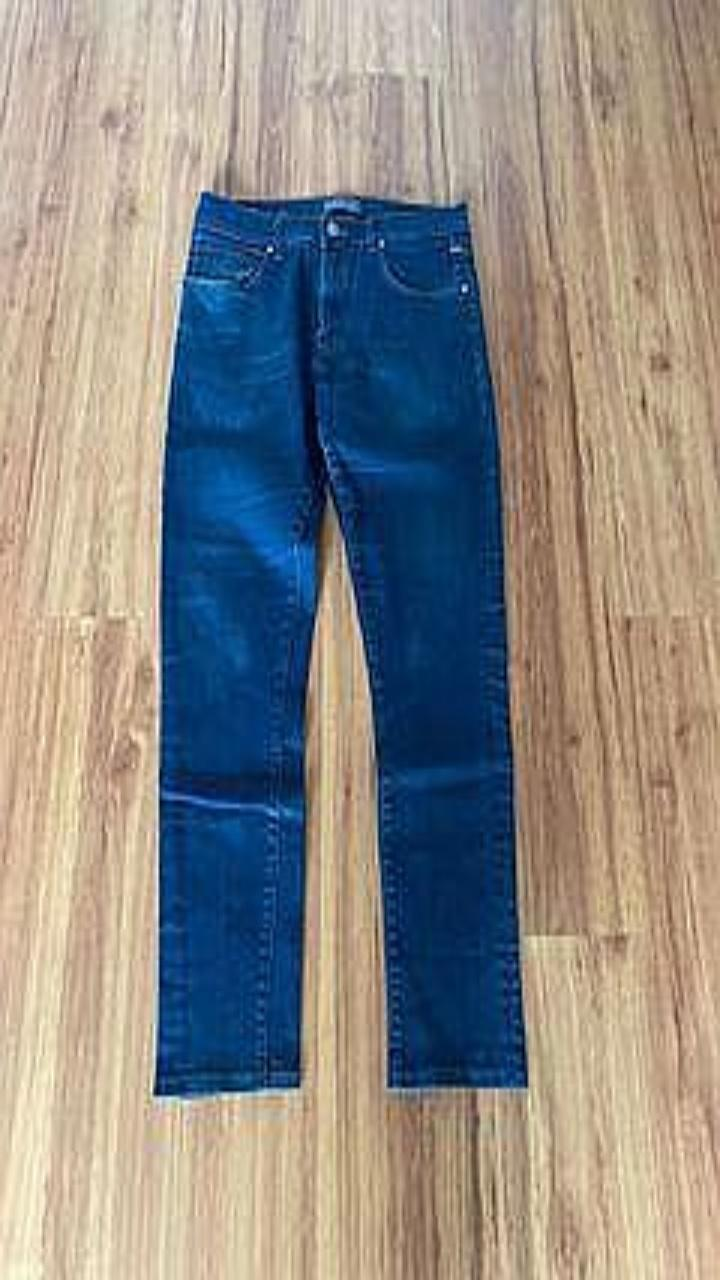Jeans: (153, 191, 526, 1095)
